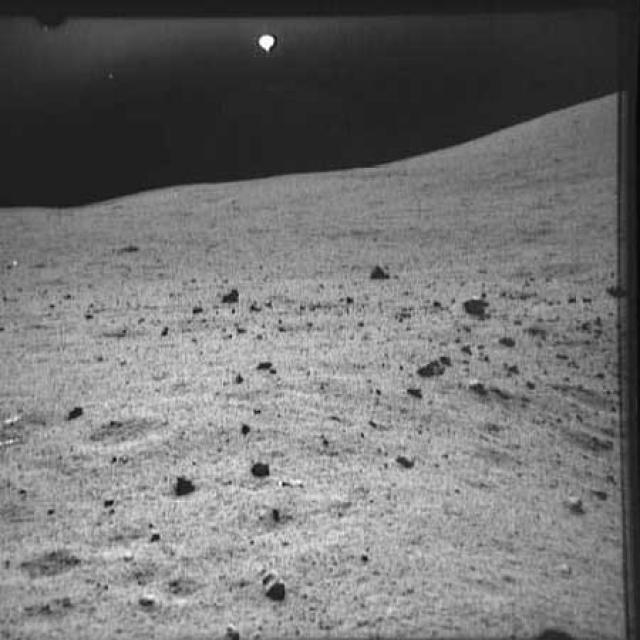crater: (22, 542, 92, 589)
rock: (253, 556, 301, 605), (162, 470, 206, 500), (456, 293, 492, 322), (413, 354, 454, 378), (368, 257, 404, 283), (137, 580, 160, 614), (216, 283, 248, 307), (247, 456, 276, 482), (390, 448, 419, 473), (560, 492, 587, 516), (462, 376, 492, 396), (234, 416, 260, 438), (489, 330, 517, 350), (254, 356, 278, 375), (70, 399, 90, 421), (122, 239, 149, 255), (223, 622, 243, 639), (598, 285, 622, 299), (187, 300, 206, 316), (148, 526, 162, 545)
